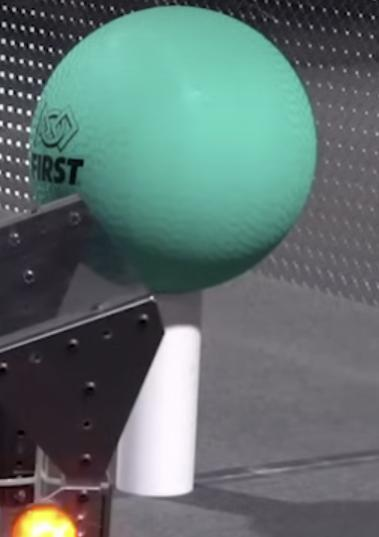algae: (28, 7, 317, 295)
coral: (112, 294, 205, 499)
